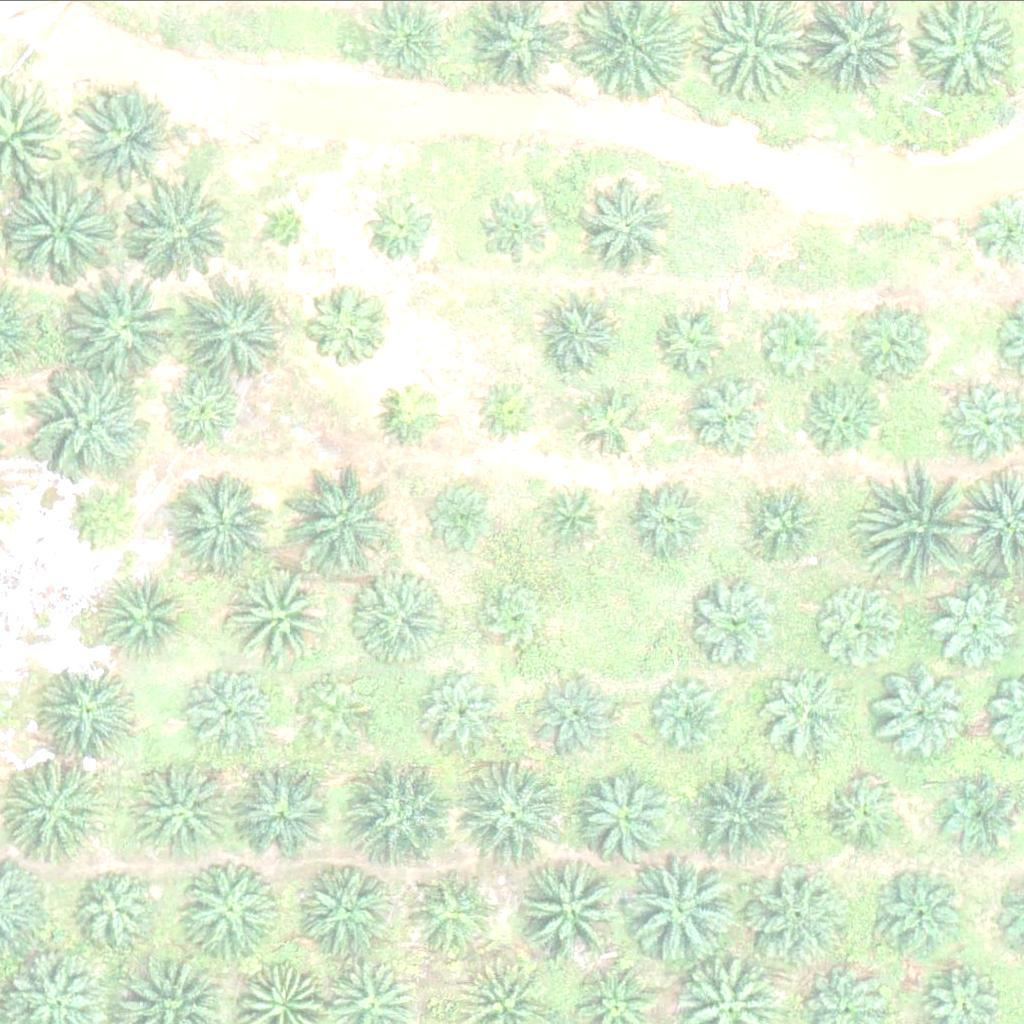Kelapa_Sawit: (868, 467, 981, 580), (693, 762, 806, 875), (630, 853, 743, 966), (6, 176, 119, 289), (123, 179, 236, 292), (35, 364, 148, 477), (515, 848, 629, 960), (65, 273, 179, 385), (344, 762, 457, 874), (458, 761, 571, 873), (284, 460, 397, 572), (66, 84, 179, 196), (175, 268, 288, 380), (578, 177, 679, 277), (580, 766, 681, 866), (747, 869, 848, 969), (299, 858, 400, 958), (175, 859, 276, 959), (139, 757, 240, 857), (230, 759, 331, 859), (37, 666, 138, 766), (230, 567, 331, 667), (169, 470, 270, 570), (1, 760, 101, 860), (349, 566, 449, 666), (684, 372, 773, 460), (472, 180, 561, 268), (628, 474, 716, 562), (744, 486, 832, 574), (851, 302, 939, 390), (887, 670, 975, 758), (873, 870, 961, 958), (819, 769, 907, 857), (820, 580, 908, 668), (161, 365, 249, 453), (400, 864, 488, 952), (533, 671, 621, 759), (415, 664, 503, 752), (298, 280, 386, 368), (537, 286, 625, 374), (799, 374, 887, 461), (932, 774, 1020, 861), (691, 579, 779, 666), (933, 582, 1021, 669), (764, 668, 852, 755), (75, 860, 163, 947), (182, 667, 270, 754), (102, 573, 190, 660), (354, 183, 442, 270), (63, 481, 139, 556), (654, 676, 730, 751), (425, 478, 501, 553), (764, 303, 840, 378), (537, 480, 613, 555), (375, 373, 450, 448), (296, 672, 371, 747), (575, 388, 650, 463), (480, 574, 555, 649), (659, 300, 734, 375), (471, 373, 546, 448), (269, 201, 319, 251)
